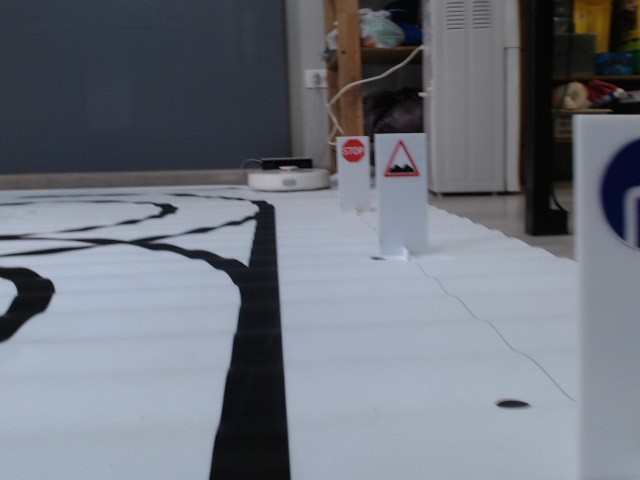Nerov: (383, 138, 420, 179)
Stop: (340, 138, 366, 164)
